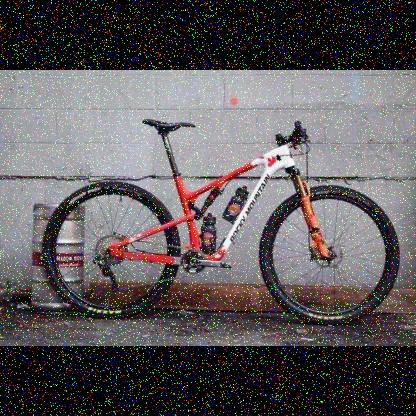Bicycle: (28, 103, 409, 338)
